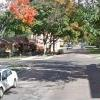Car: (2, 58, 21, 97)
